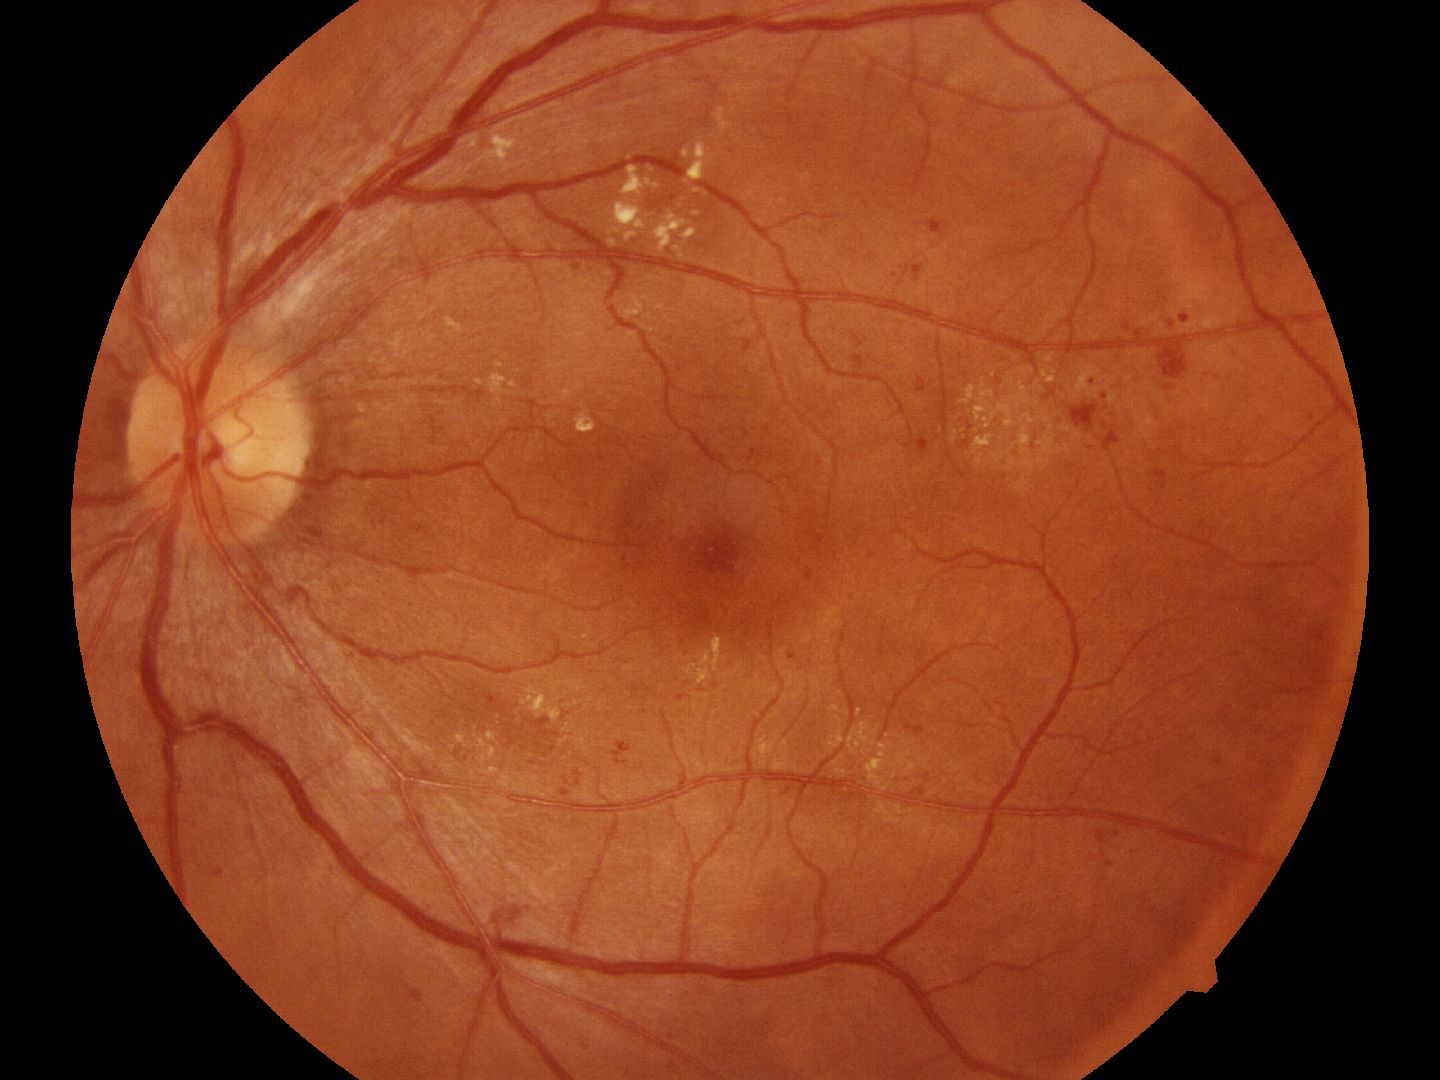Exudates: (612, 154, 722, 251), (960, 358, 1048, 479), (836, 702, 901, 788)
Hemorrhages: (630, 463, 804, 638)
Microaneurysms: (1069, 335, 1222, 447)
Optic-Disc: (135, 338, 310, 552)
Venules: (222, 86, 475, 281), (144, 621, 287, 844)
